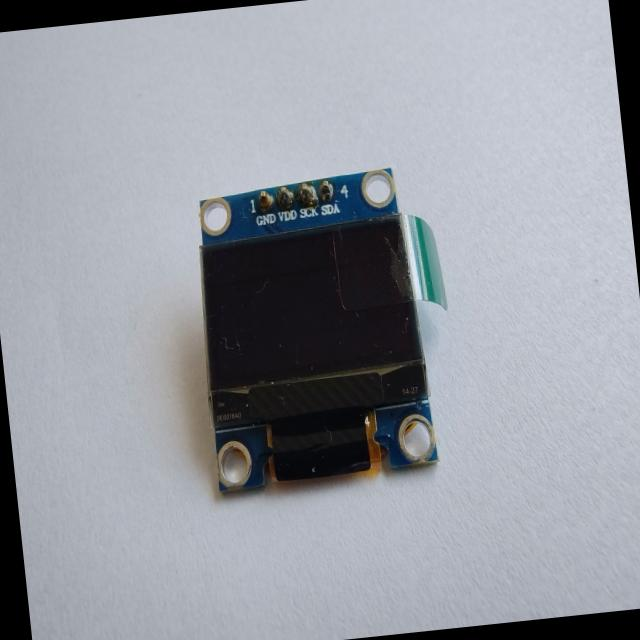oled: (165, 145, 458, 506)
